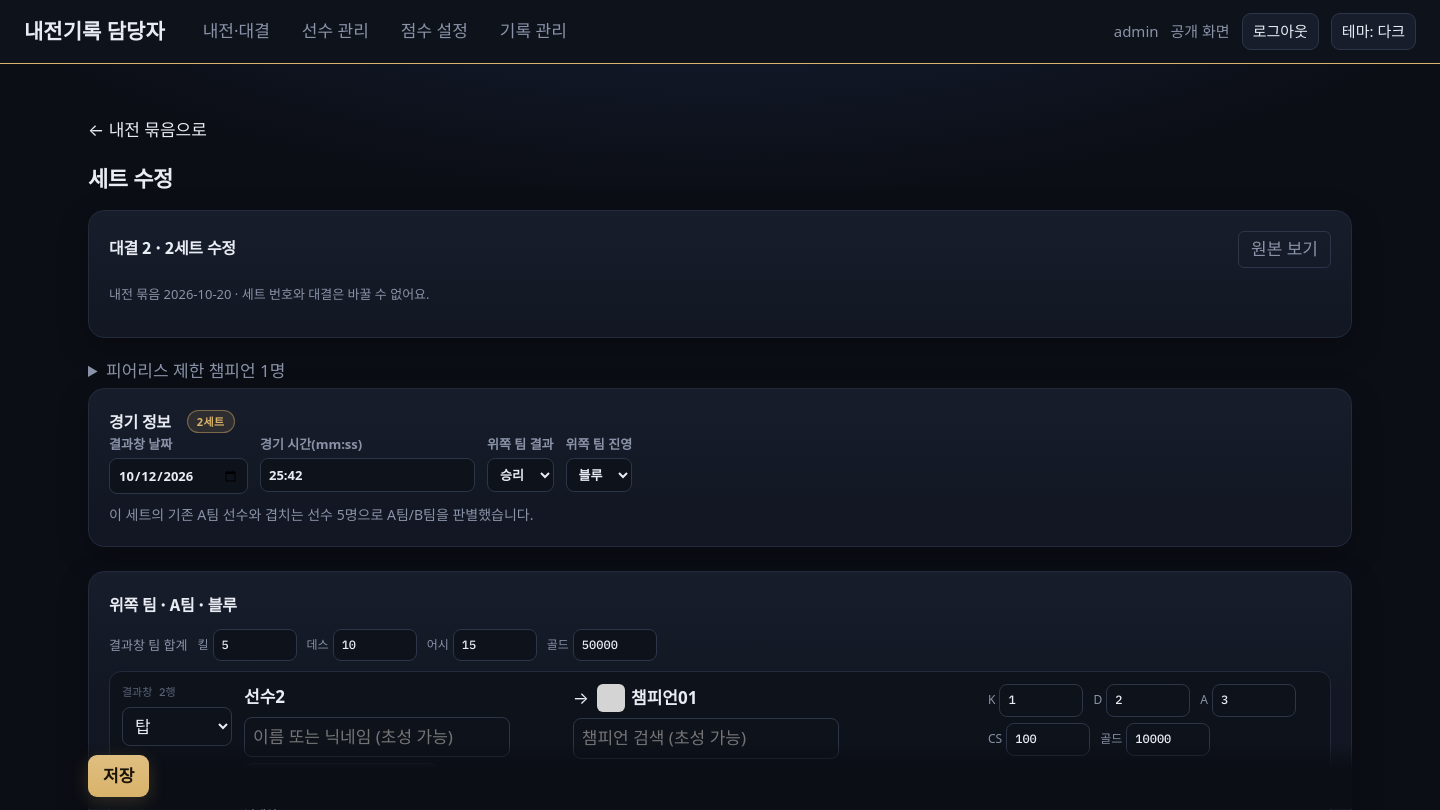
Scenario: SetEditPage › 422 SET_RULES_VIOLATED는 오류 목록으로 보여 준다
Click the button "저장": x=119, y=777 [88, 756, 149, 798]
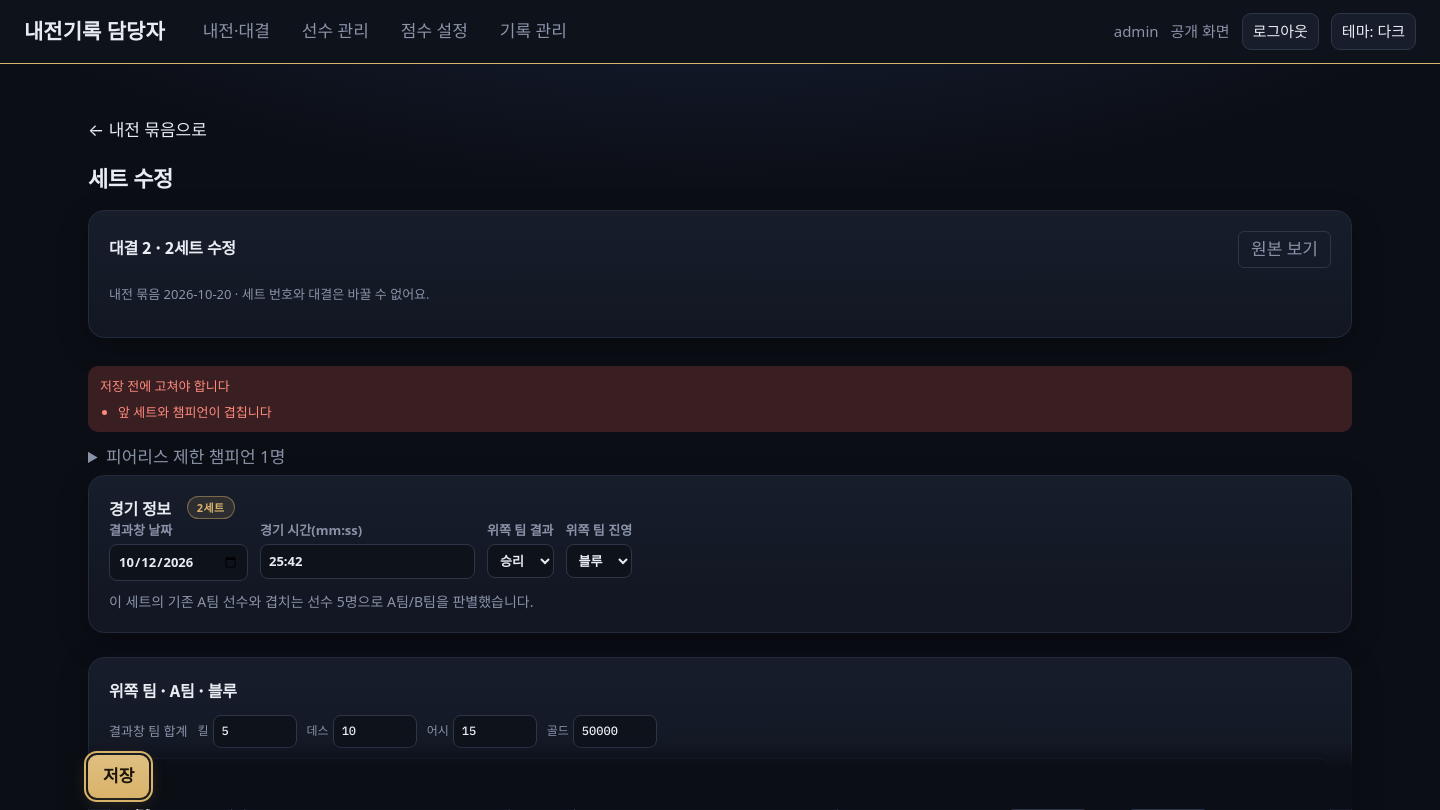
Check: the message named "저장을 막는 오류" shows "앞 세트와 챔피언이 겹칩니다", box [118, 403, 272, 421]
